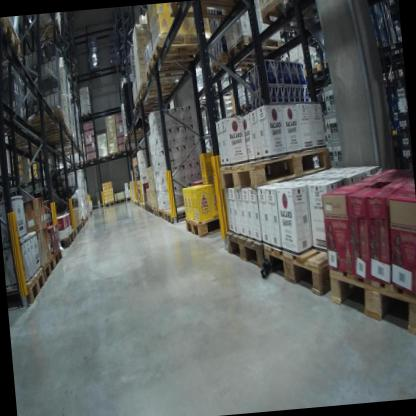pallet: (325, 261, 416, 344), (259, 230, 338, 311), (217, 144, 338, 196), (137, 48, 215, 101), (258, 0, 322, 41), (169, 0, 247, 30), (150, 31, 213, 65), (224, 227, 263, 279), (226, 33, 283, 67), (6, 267, 47, 314), (212, 48, 275, 76), (0, 16, 24, 69), (182, 212, 223, 241), (26, 110, 65, 131), (33, 19, 64, 45), (132, 93, 176, 111), (163, 201, 194, 224), (39, 254, 56, 281), (49, 245, 67, 270), (303, 62, 322, 80), (126, 126, 148, 139), (58, 232, 74, 249), (108, 59, 127, 73), (70, 70, 83, 86), (90, 64, 103, 79), (81, 109, 95, 121), (4, 170, 18, 182), (68, 227, 78, 242), (72, 223, 81, 237), (109, 150, 120, 161), (96, 154, 110, 162), (157, 206, 165, 220), (76, 159, 87, 168), (86, 156, 98, 164), (114, 197, 126, 204), (104, 201, 115, 208), (153, 206, 159, 216), (148, 204, 153, 213), (125, 196, 132, 200)
